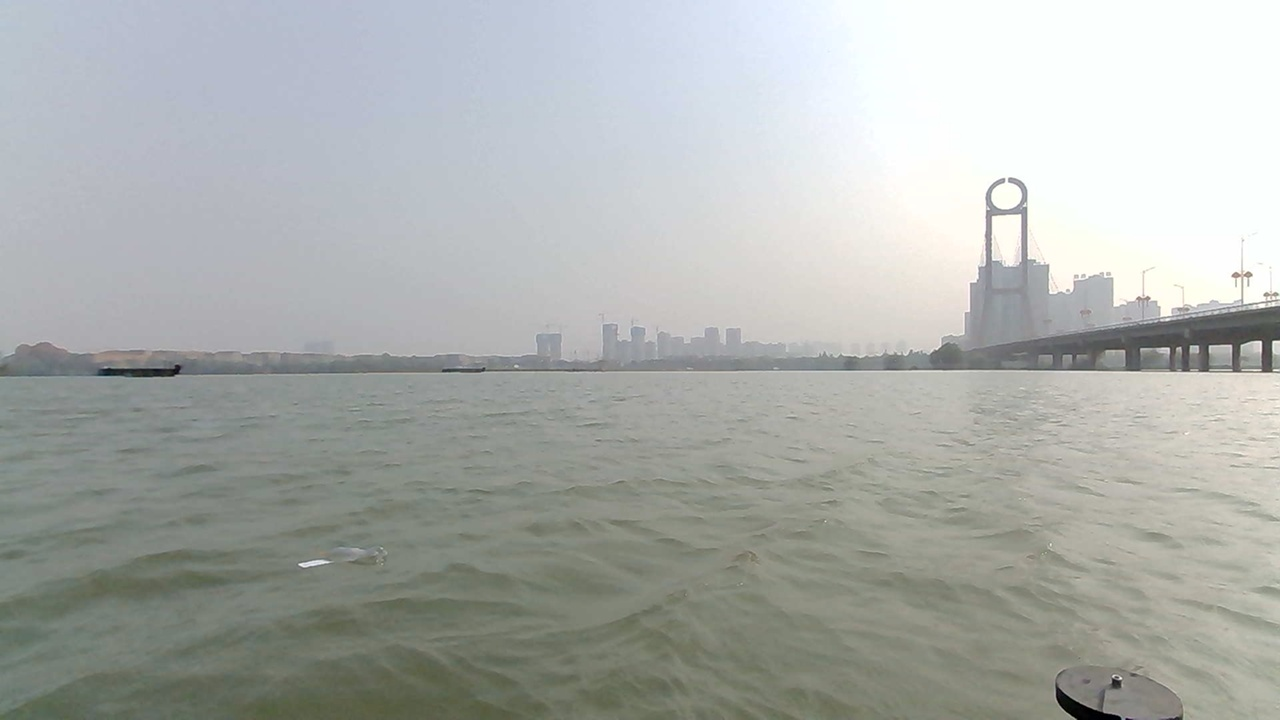bottle: (235, 531, 393, 583)
